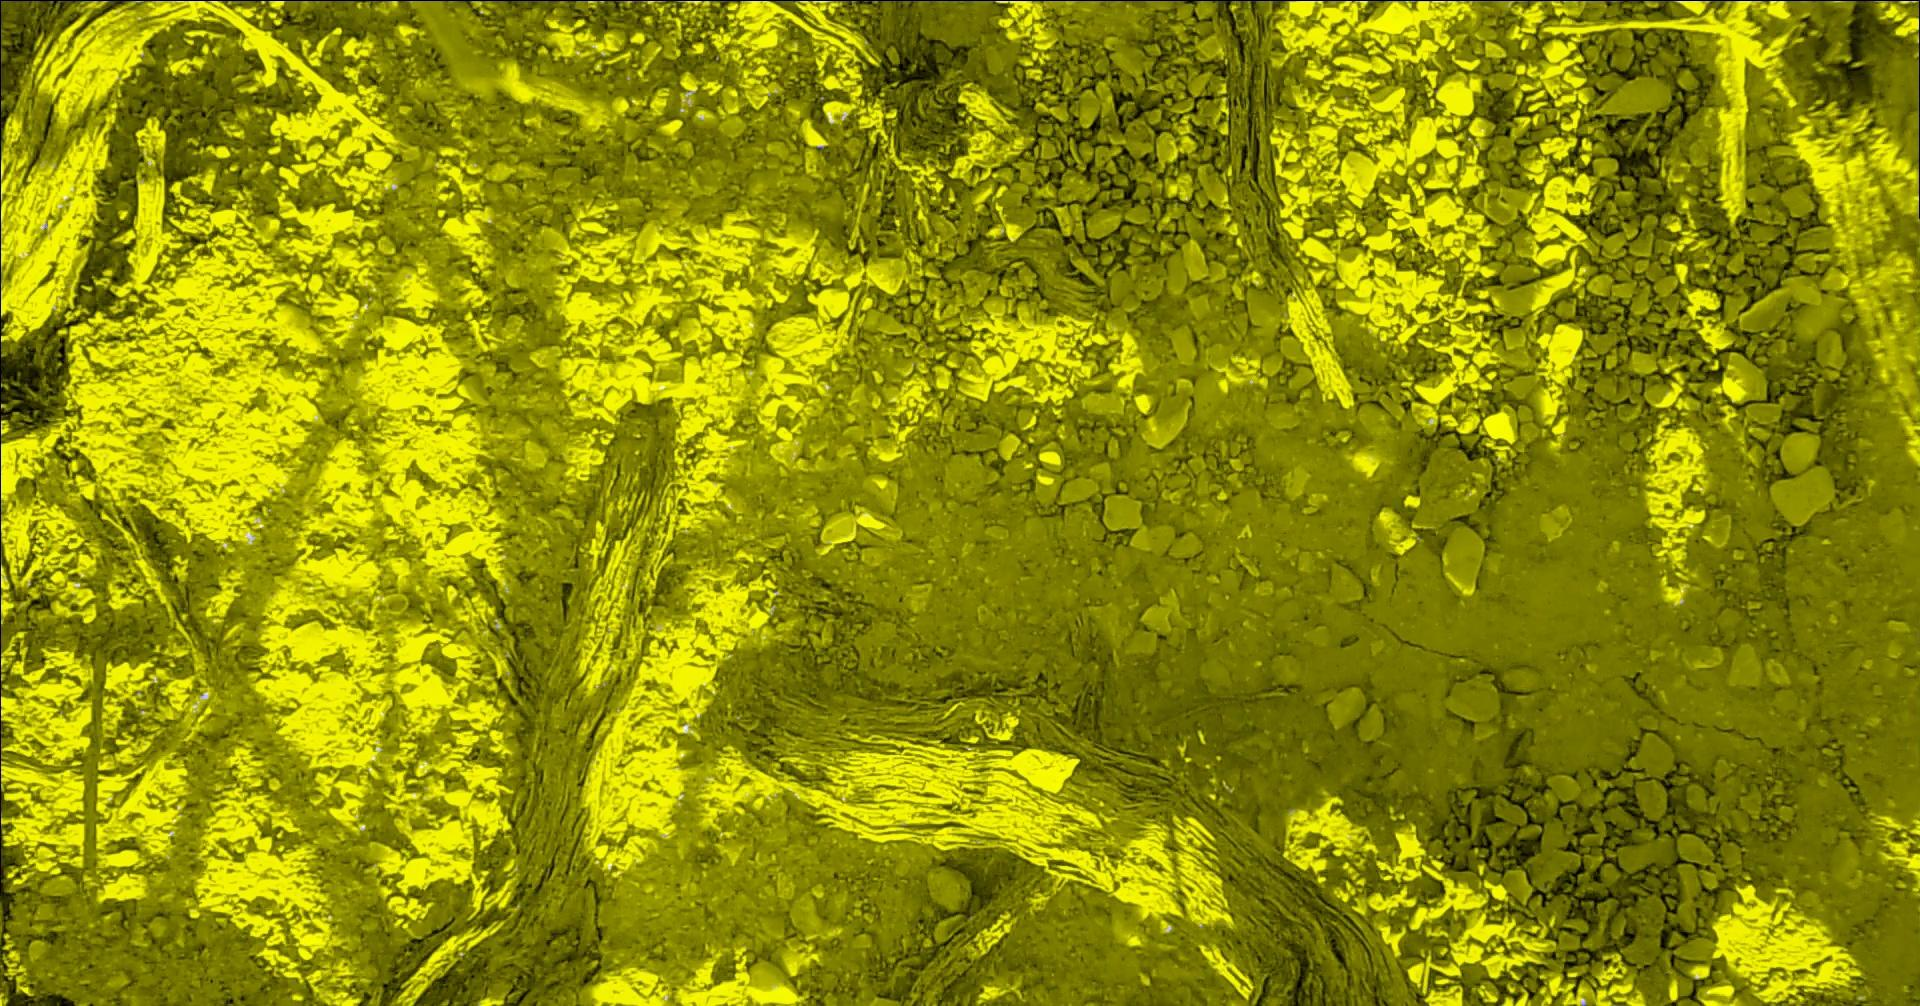ant: (0, 0, 83, 11), (494, 0, 559, 1), (863, 0, 919, 1)
